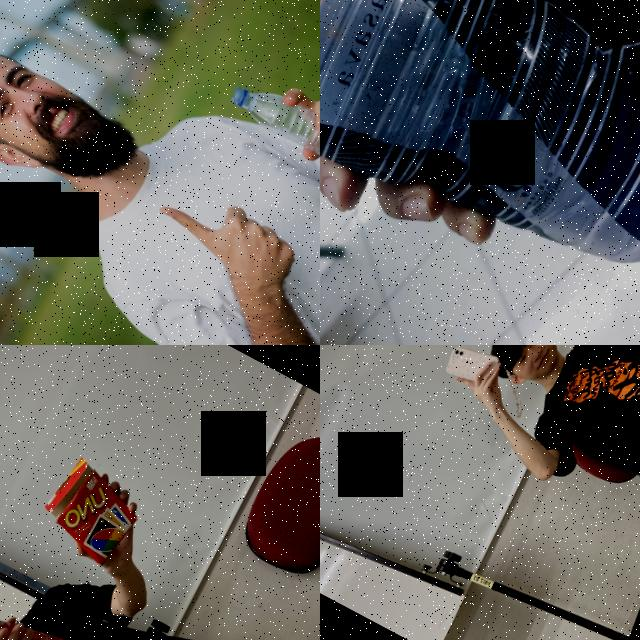bottle: (320, 0, 640, 345), (222, 69, 320, 172)
can: (0, 594, 74, 640)
